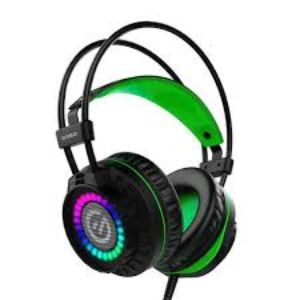headset: (41, 22, 249, 288)
